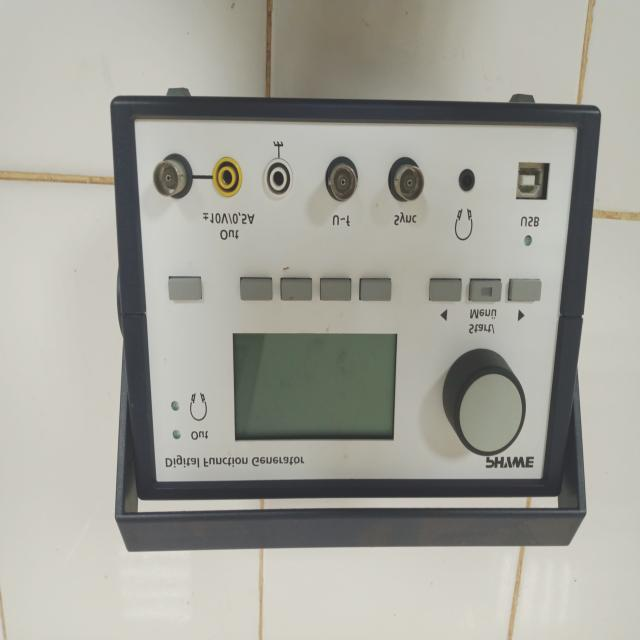Digital Function Generator: (97, 64, 611, 558)
